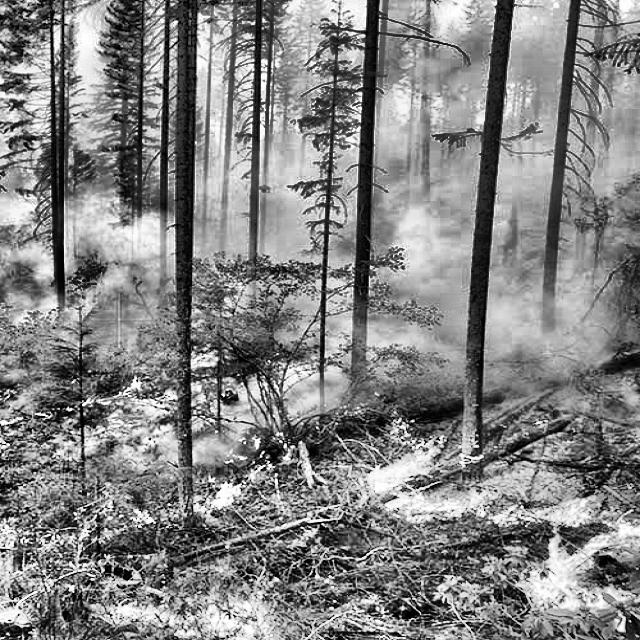fire: (352, 377, 639, 640), (68, 570, 338, 640), (0, 373, 172, 451)
